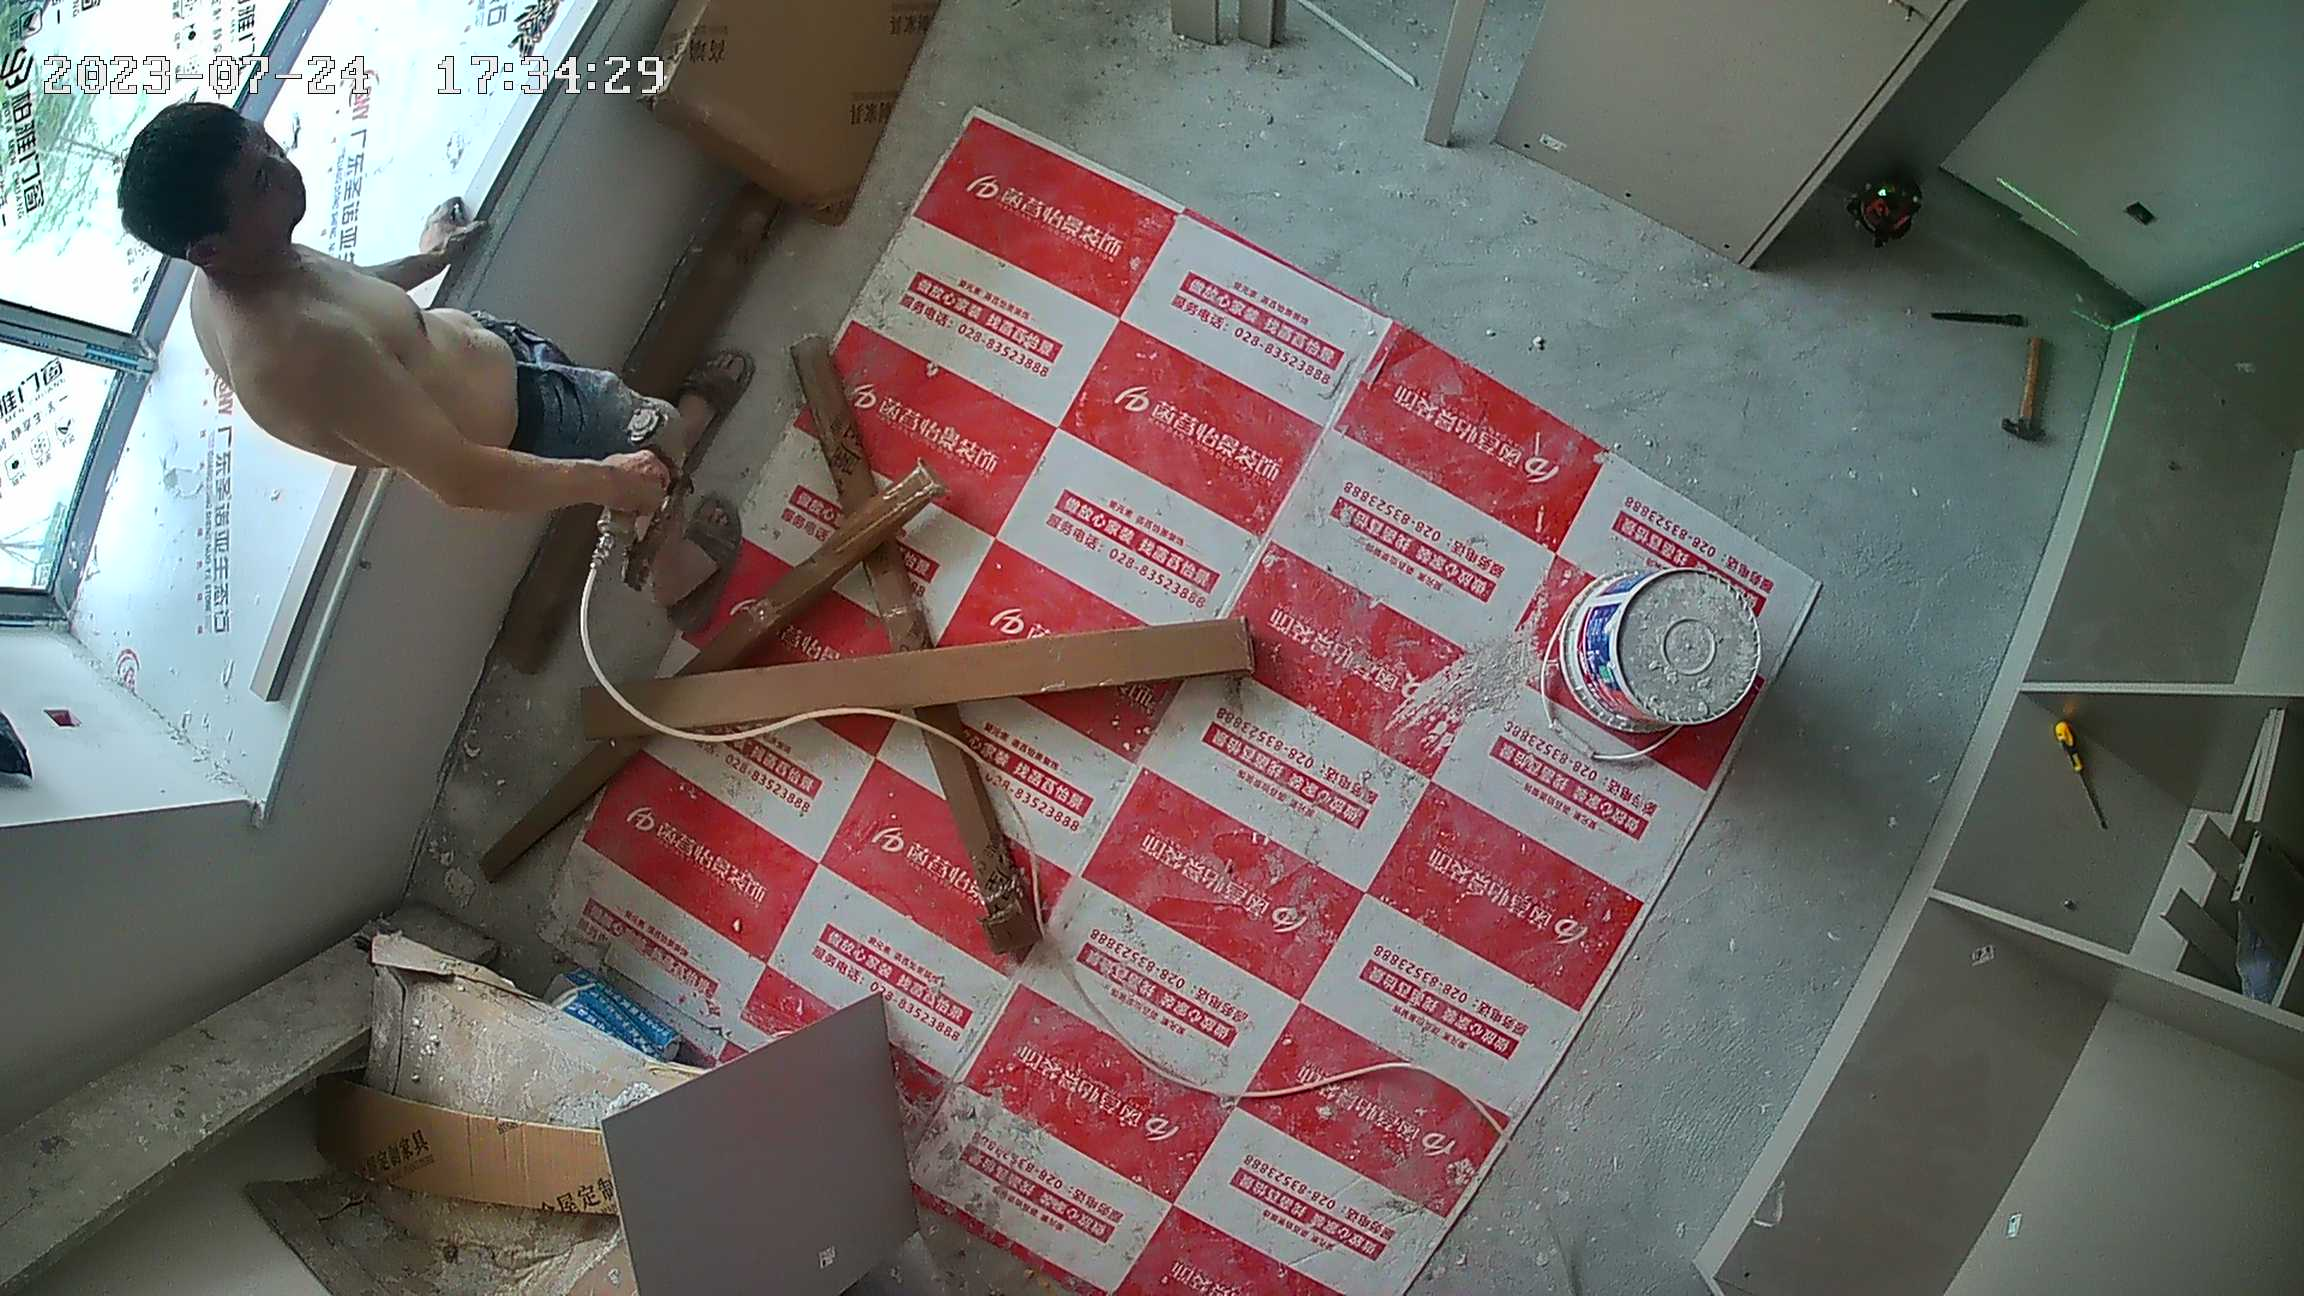people: (125, 109, 757, 621)
window: (7, 1, 309, 642)
